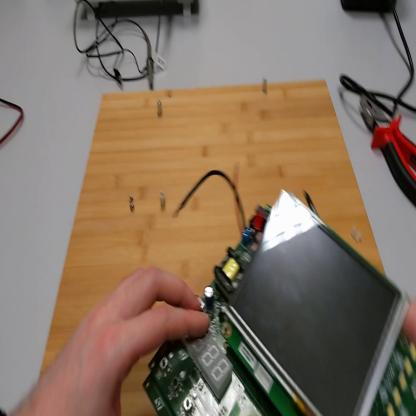hand: (8, 272, 211, 415), (403, 303, 416, 343)
low voltage board: (143, 234, 416, 415)
oscilloscope: (85, 3, 196, 21)
oscilloscope probe tip: (144, 35, 156, 91)
pliers: (362, 95, 416, 208)
welder station: (341, 2, 396, 16)
working area: (39, 78, 385, 415)
